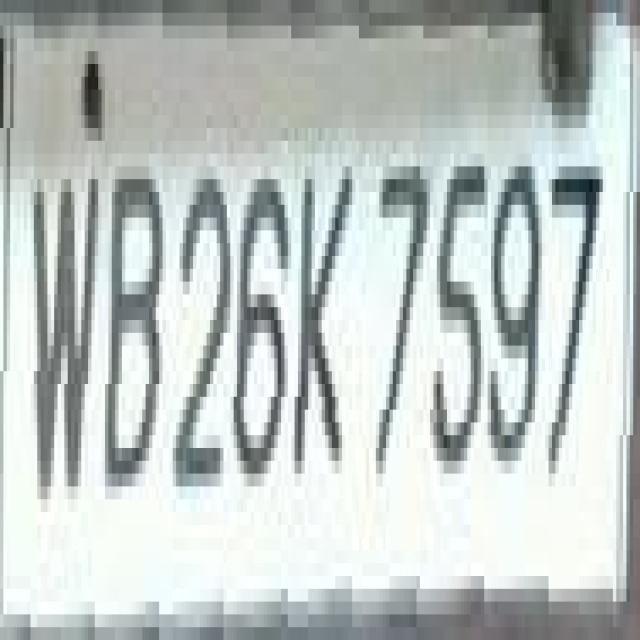license_plate: (0, 0, 606, 614)
